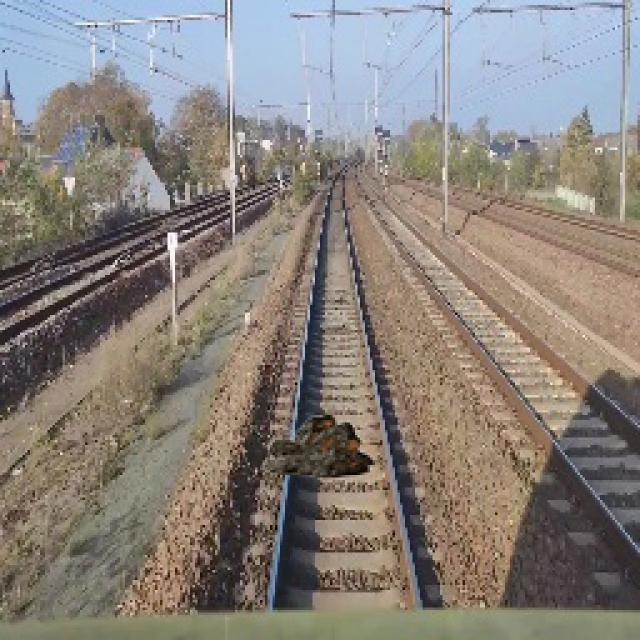danger: (256, 409, 388, 487)
rail: (351, 162, 640, 608), (219, 159, 455, 611)
